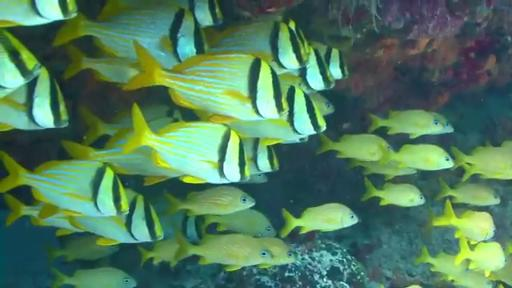Fish: (124, 43, 287, 122), (124, 104, 249, 183), (53, 3, 207, 67), (0, 152, 128, 218), (61, 130, 183, 185), (227, 86, 326, 144), (207, 20, 311, 71), (69, 189, 163, 245), (0, 67, 68, 130), (176, 234, 272, 271), (98, 0, 223, 27), (5, 194, 83, 235), (64, 44, 139, 83), (0, 29, 42, 97), (432, 200, 495, 243), (166, 186, 255, 215), (280, 204, 358, 237), (280, 48, 335, 92), (369, 110, 453, 138), (0, 0, 78, 27), (46, 234, 119, 262), (79, 107, 132, 145), (452, 147, 511, 181), (317, 134, 393, 160), (204, 209, 275, 236), (456, 237, 505, 276), (382, 144, 454, 170), (362, 178, 425, 207), (436, 179, 500, 205), (52, 268, 136, 287), (415, 247, 467, 276), (173, 0, 223, 27), (350, 160, 417, 180), (311, 43, 348, 79), (243, 139, 279, 175), (138, 237, 178, 266), (259, 237, 295, 267), (308, 92, 335, 116), (490, 261, 511, 285), (239, 174, 267, 183)
